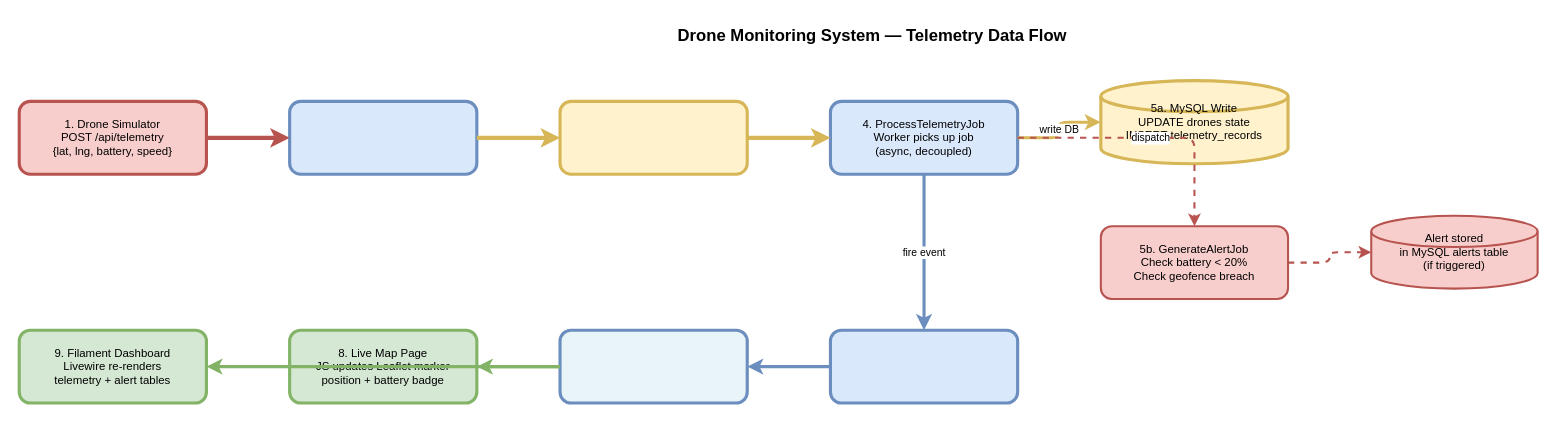
Some shapes in this 1557 by 422 pixel diagram are drawn without their labels. The shapes that lost their labels are listed below. From the top down, each one's centre as x and y in pixels, then its label:
At point (383, 137): "2. TelemetryController Validate + dispatch ProcessTelemetryJob".
At point (653, 137): "3. Redis Queue Job queued 202 returned to client".
At point (653, 366): "7. Reverb WebSocket Pushes JSON to channel drone.{id}".
At point (923, 366): "6. TelemetryUpdated Event Broadcast fired via Reverb / Redis pub".
